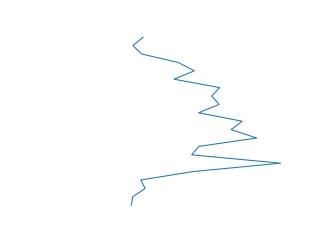floodSwamp: (124, 37, 286, 206)
